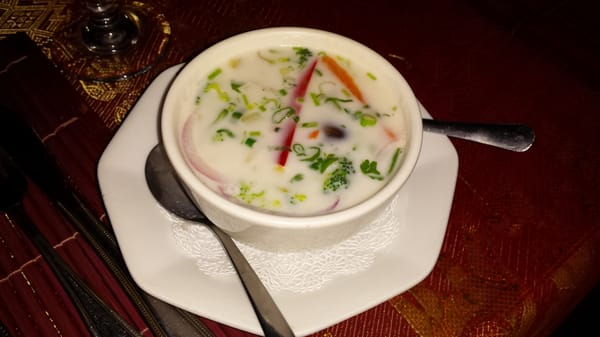curry: (321, 155, 354, 192)
salad: (145, 145, 294, 334)
sushi: (163, 23, 424, 231)
